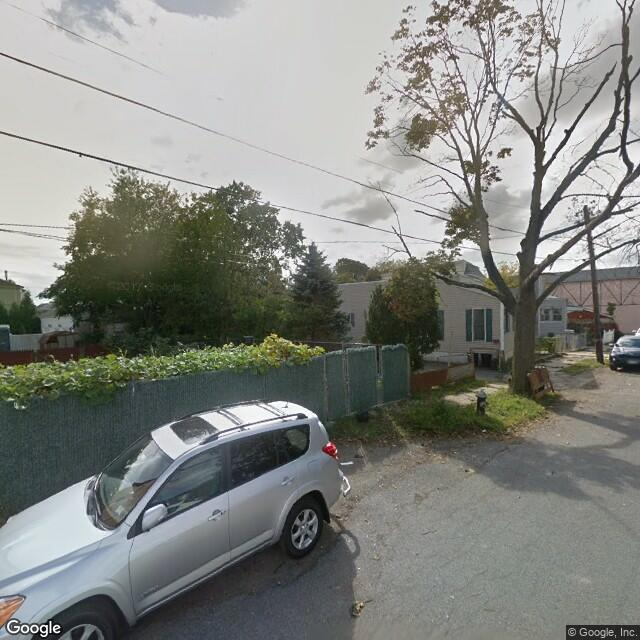litter: (335, 454, 350, 493)
